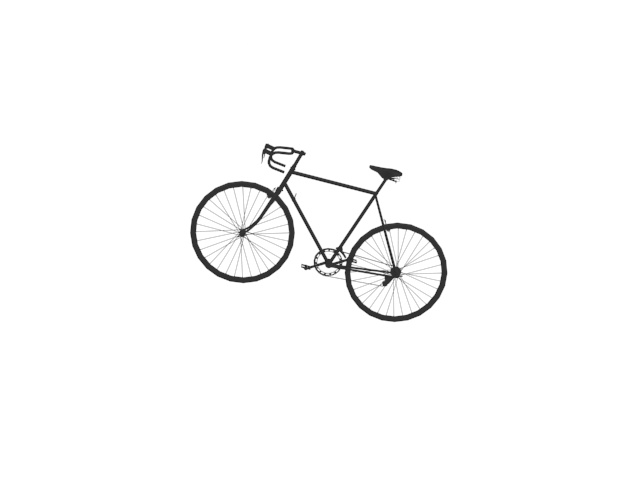bike: (185, 137, 448, 328)
